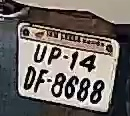1: (69, 51, 78, 72)
4: (80, 53, 97, 73)
6: (66, 75, 77, 101)
8: (52, 73, 65, 97), (91, 80, 103, 105), (77, 78, 88, 103)
D: (22, 66, 35, 92)
F: (33, 68, 47, 92)
P: (44, 46, 62, 65)
U: (32, 43, 47, 64)
